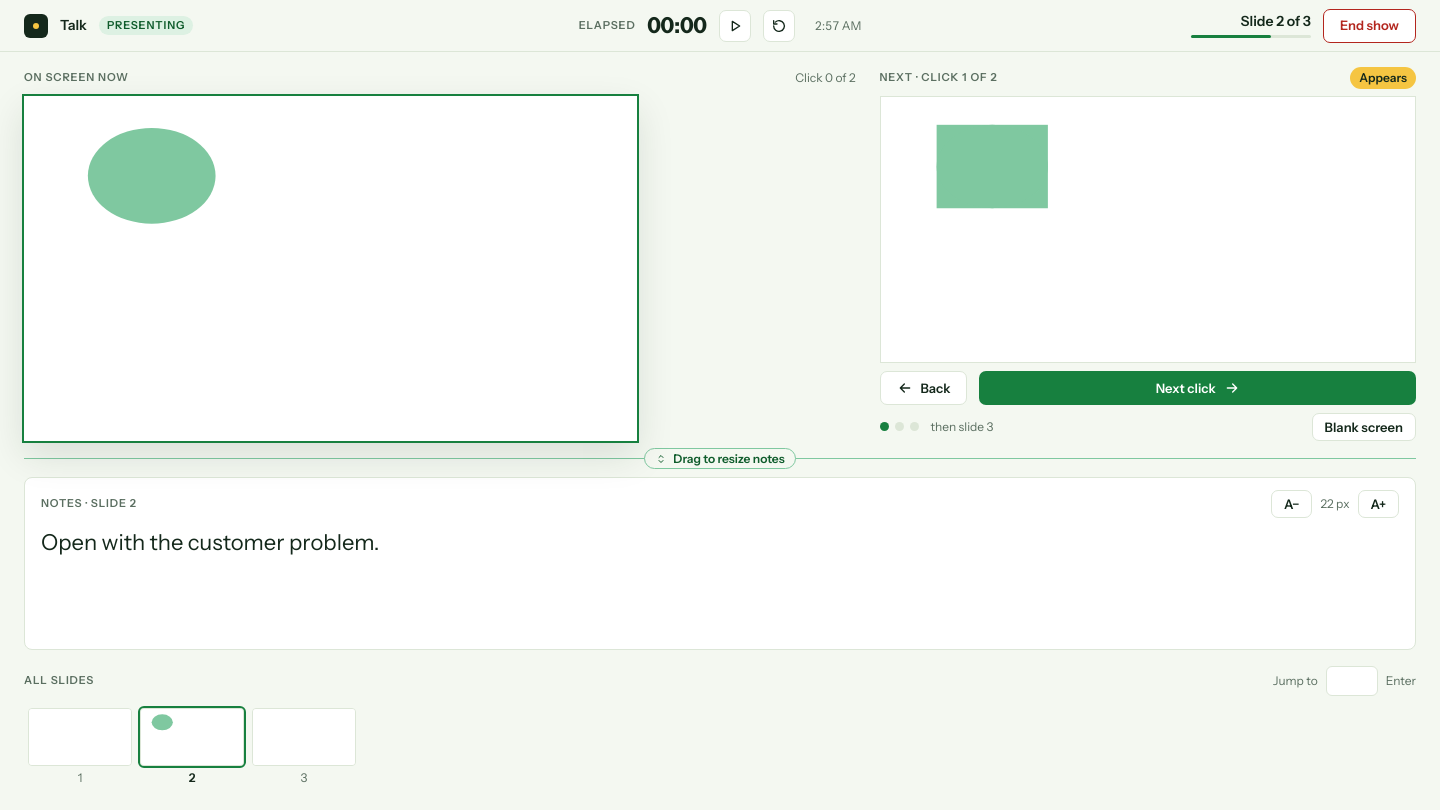
Test case: the notes panel (PM-4) › Given A+ and A−, Then the notes text grows and shrinks in steps of 2 px, within limits, and the panel does not change size
This screenshot has width=1440, height=810.
Click the button named "Larger text": (1378, 504) [1358,490,1399,518]
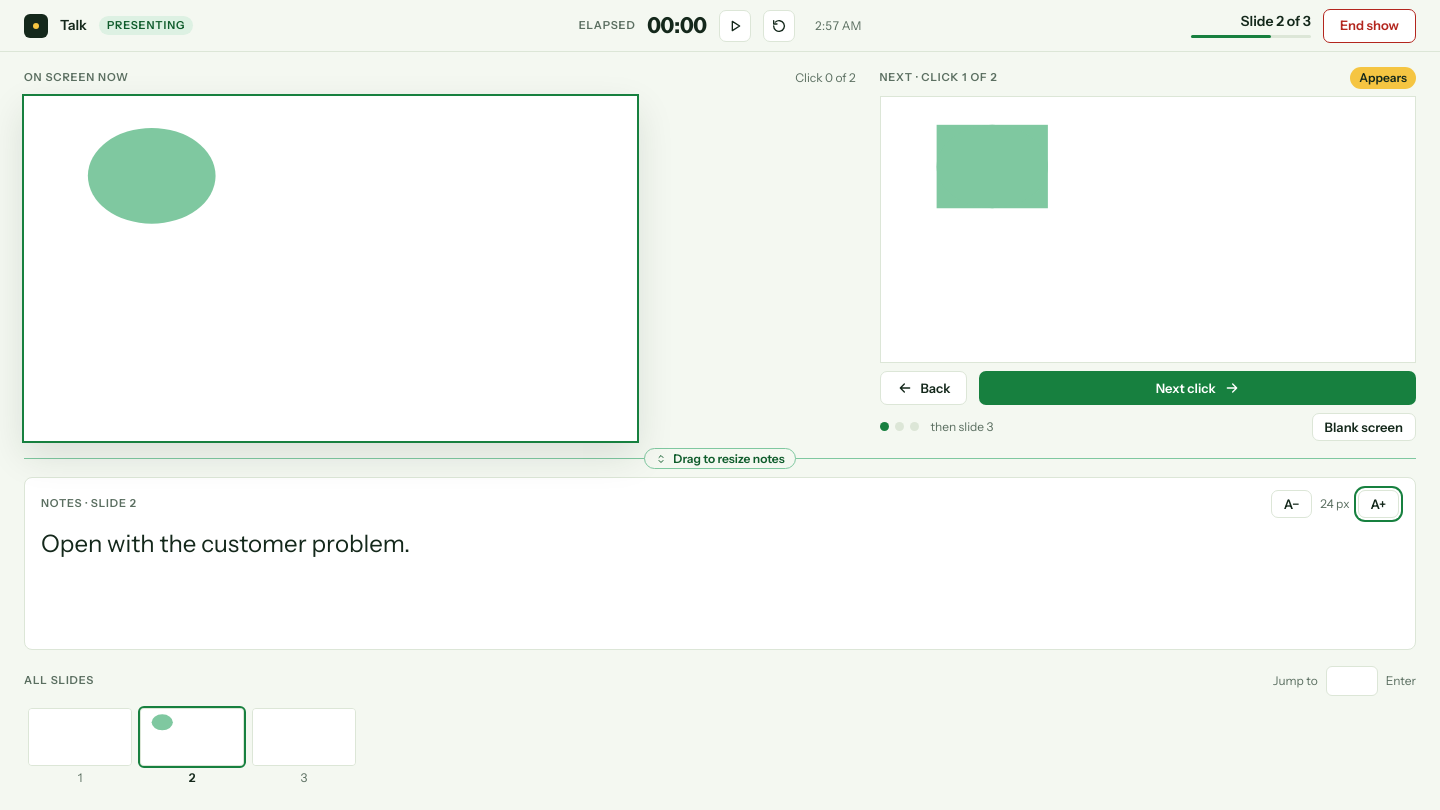
Now the text "24 px" is shown, box [1320,496,1350,511]
Click the button named "Smaller text": (1292, 504) [1271,490,1312,518]
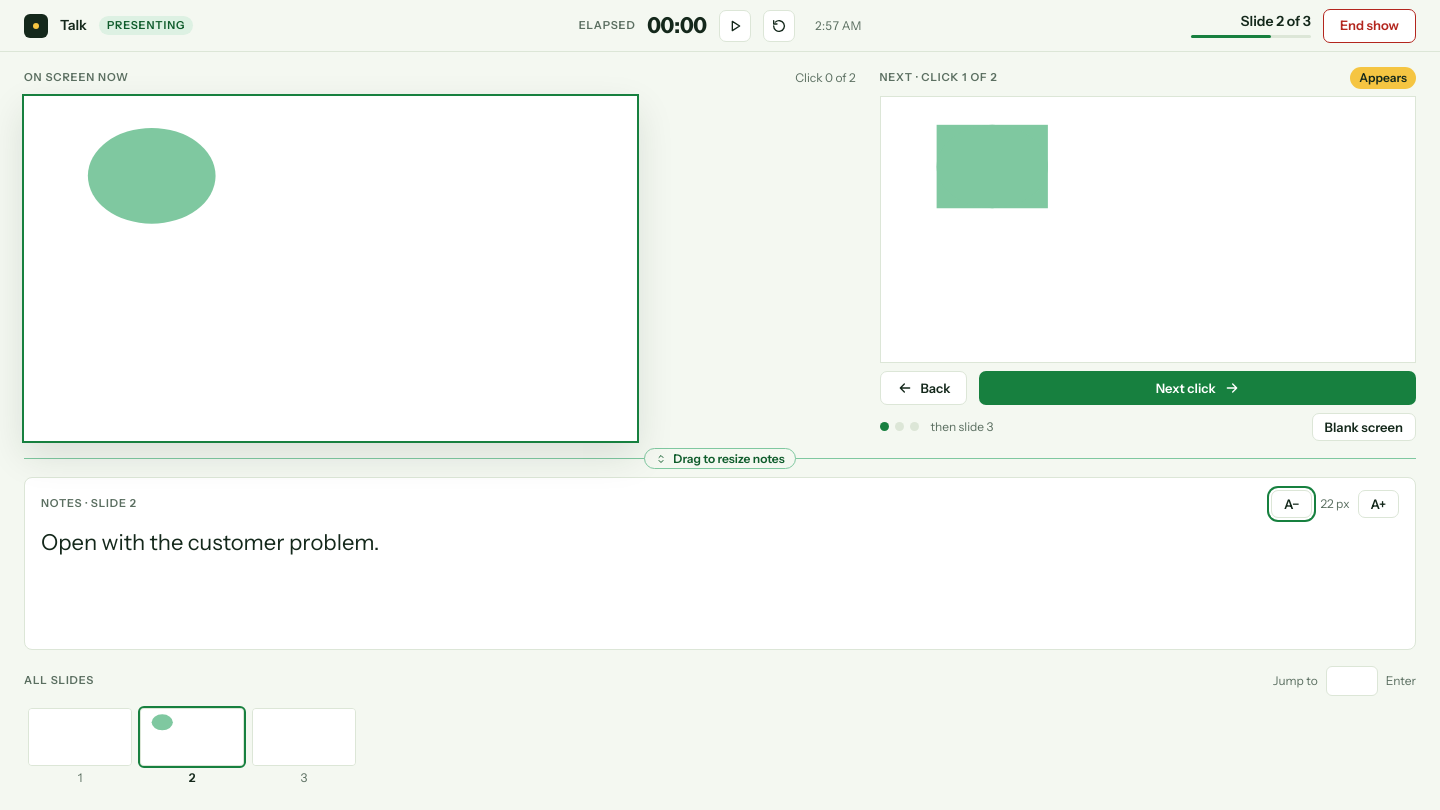
Click the button named "Smaller text": (1292, 504) [1271,490,1312,518]
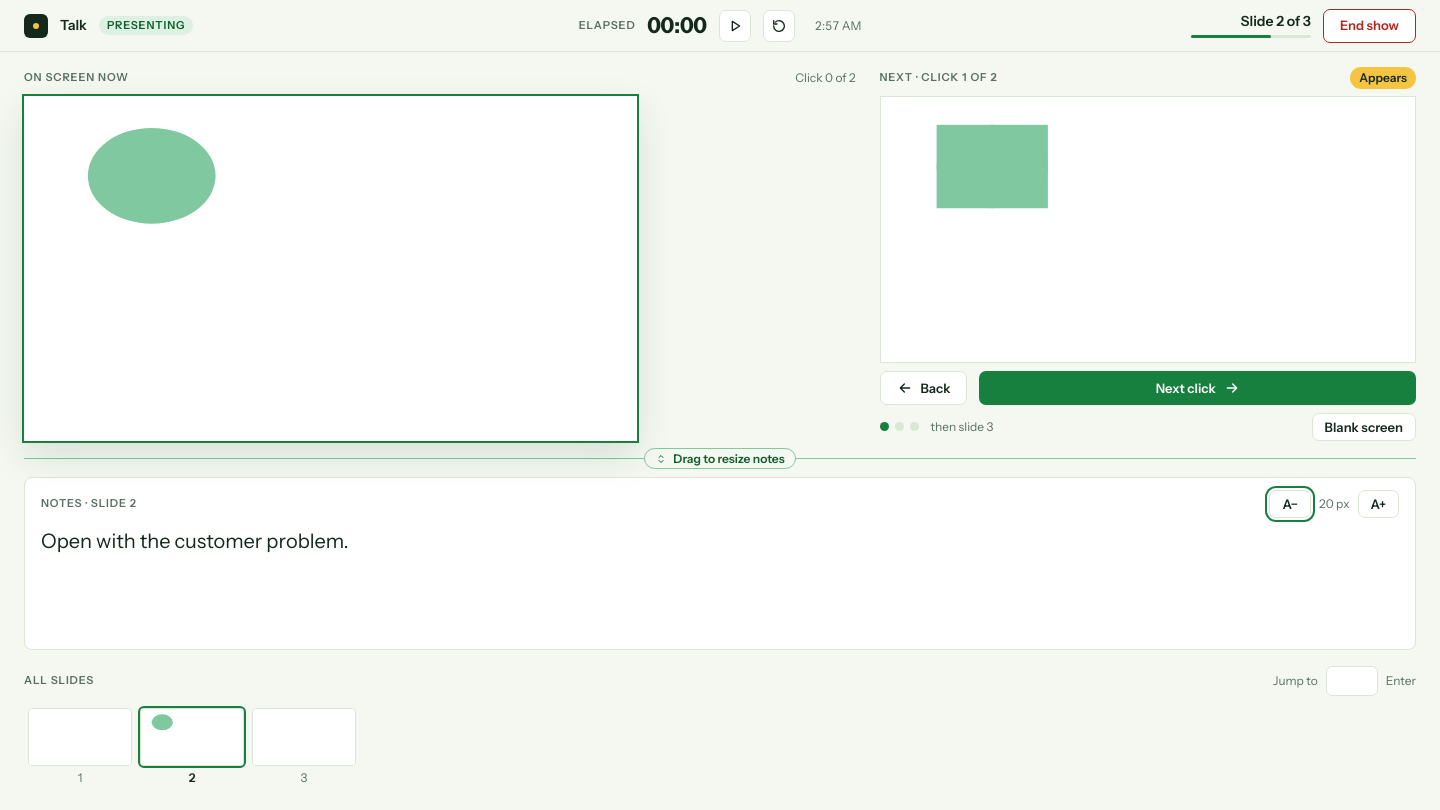
Click the button named "Smaller text": (1290, 504) [1269,490,1311,518]
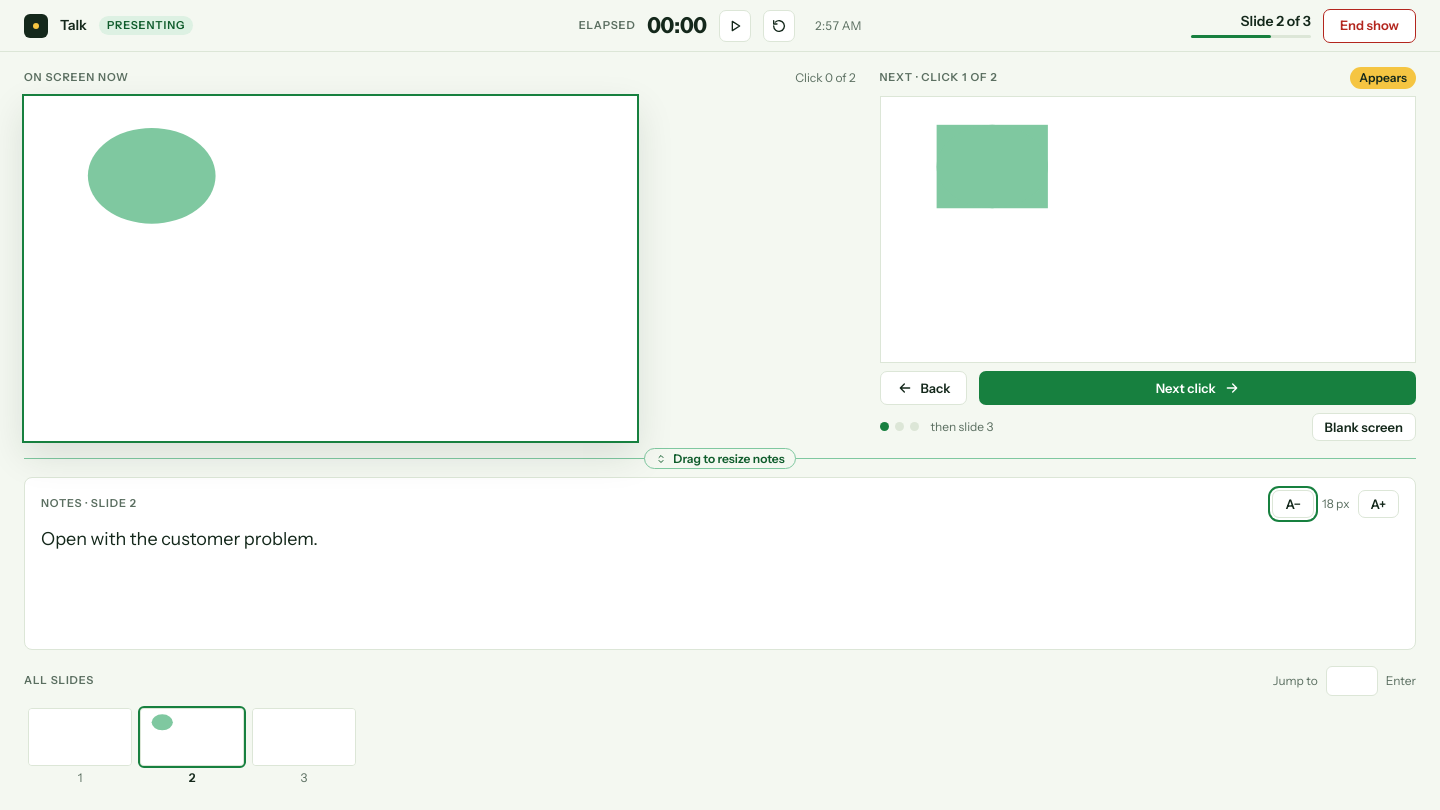
Click the button named "Smaller text": (1293, 504) [1272,490,1314,518]
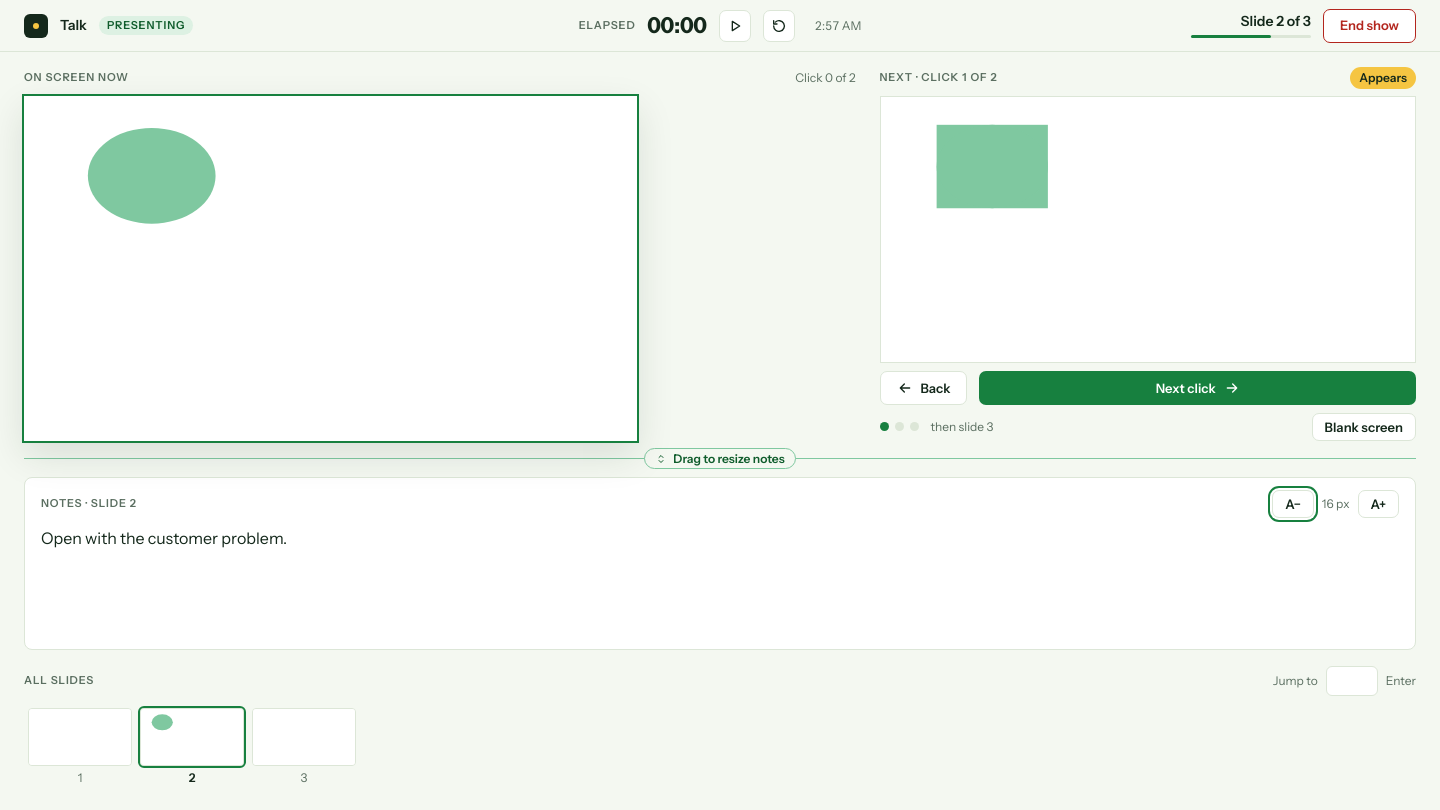
Click the button named "Smaller text": (1293, 504) [1272,490,1314,518]
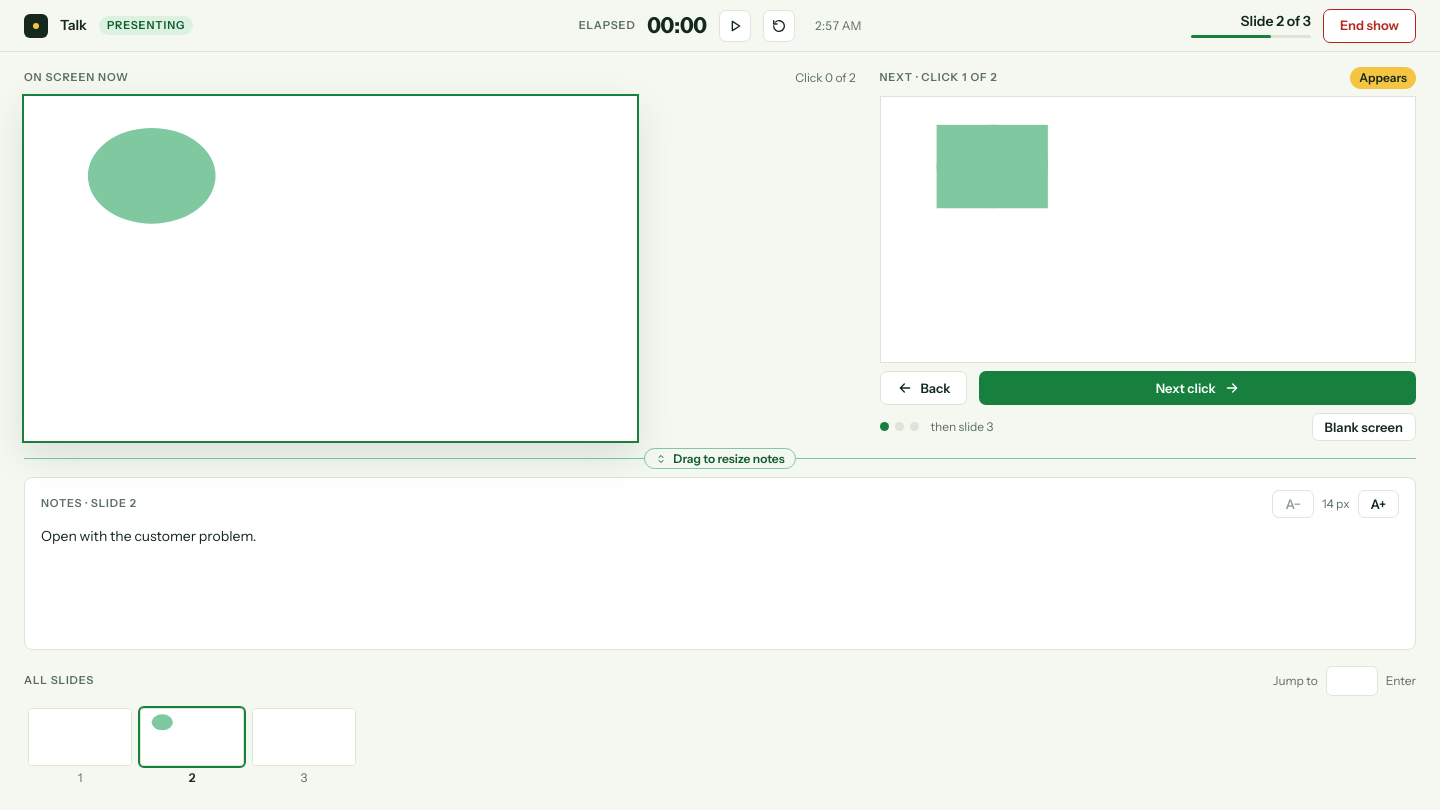
Now the text "14 px" is shown, box [1322,496,1350,511]
Now the button named "Smaller text" is disabled, box [1272,490,1314,518]
